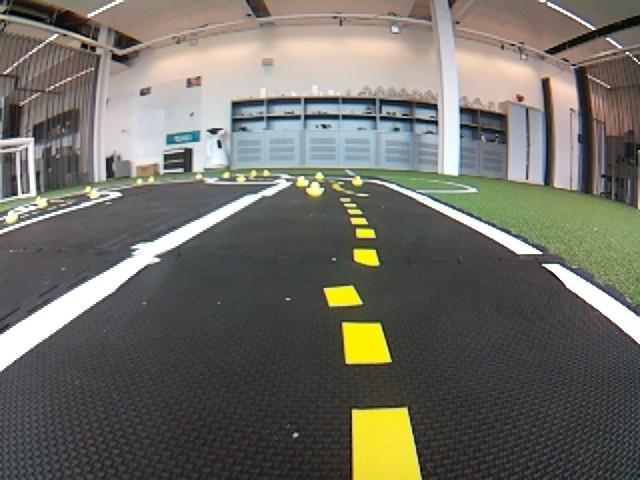Duckies: (306, 182, 325, 198), (295, 175, 310, 187), (5, 213, 19, 224), (352, 177, 363, 186), (235, 175, 246, 183), (37, 201, 49, 208), (314, 173, 324, 181), (89, 192, 100, 199), (248, 170, 257, 177), (135, 178, 143, 185), (222, 172, 231, 178), (195, 174, 203, 180), (263, 170, 271, 176), (35, 198, 43, 204), (148, 177, 155, 183), (85, 187, 92, 193)
